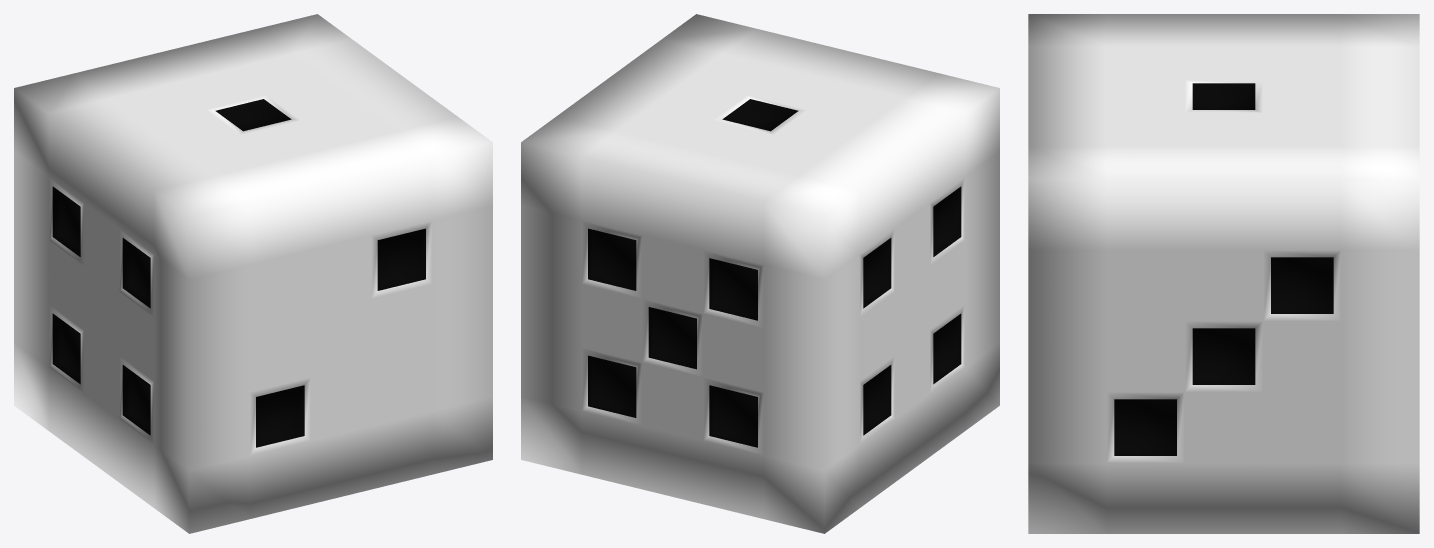
The model's file is dice.glb.
The picture shows the model from 3 angles, left to right: view 1: azimuth 30°, elevation 25°; view 2: azimuth 150°, elevation 25°; view 3: azimuth 270°, elevation 25°; orthographic projection. The views are drawn at different scales.
Parts seen in each view (by area): view 1: Cube; view 2: Cube; view 3: Cube.
Boxes of the visible parts, <box> form: Cube: <box>14,14,492,533</box>; Cube: <box>521,14,999,533</box>; Cube: <box>1028,14,1419,533</box>.
Size of the model in its own units: 2 by 2 by 2.
1 material, 1 textured.
